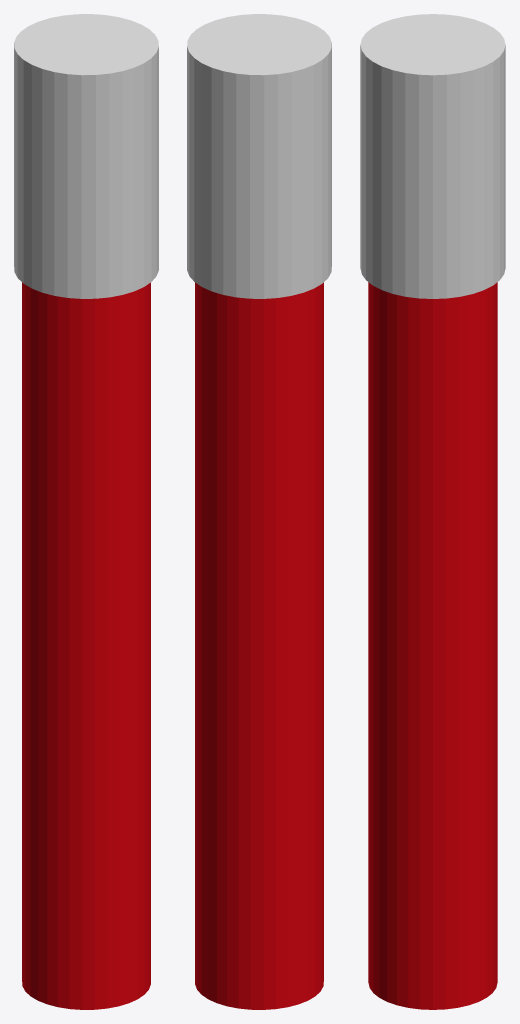
The model's file is Flare.fbx.
The picture shows the model from 3 angles, left to right: view 1: azimuth 30°, elevation 25°; view 2: azimuth 150°, elevation 25°; view 3: azimuth 270°, elevation 25°; orthographic projection.
Visible parts, largest first — view 1: Flare, Flare Cap; view 2: Flare, Flare Cap; view 3: Flare, Flare Cap.
Boxes of the visible parts, x1,y1,x2,y2 form: Flare: [22, 282, 150, 1009]; Flare Cap: [14, 14, 158, 298]; Flare: [195, 282, 323, 1009]; Flare Cap: [187, 14, 331, 298]; Flare: [368, 282, 497, 1009]; Flare Cap: [360, 14, 505, 298].
Size of the model in its own units: 42.62 by 304 by 42.62.
